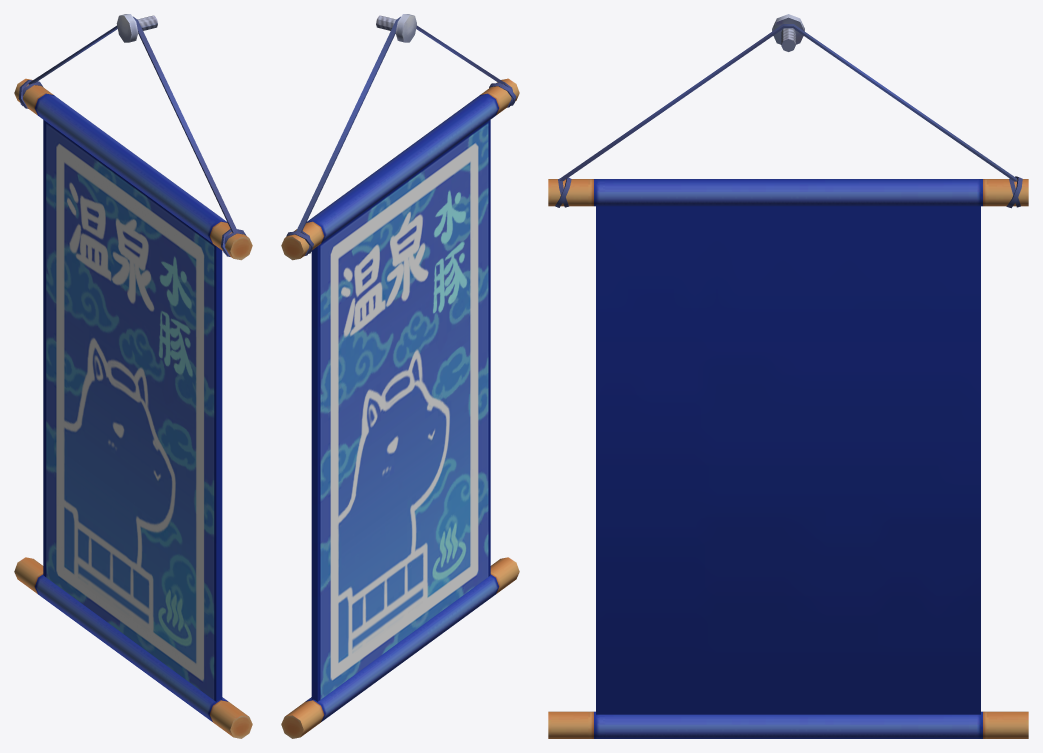
The model's file is my_hotsprings_01_scroll.glb.
3 views of the same model, side by side, from view 1: azimuth 30°, elevation 25°; view 2: azimuth 150°, elevation 25°; view 3: azimuth 270°, elevation 25° (orthographic). The views are drawn at different scales.
Parts seen in each view (by area): view 1: my_hotsprings_01_scroll; view 2: my_hotsprings_01_scroll; view 3: my_hotsprings_01_scroll.
Boxes of the visible parts, left/top/right/bottom form: my_hotsprings_01_scroll: left=14, top=14, right=252, bottom=738; my_hotsprings_01_scroll: left=281, top=14, right=519, bottom=738; my_hotsprings_01_scroll: left=548, top=14, right=1028, bottom=738.
Bounding box in the file's own units: 0.000674 × 0.012 × 0.00727.
Materials: 1 (1 with a texture image).
